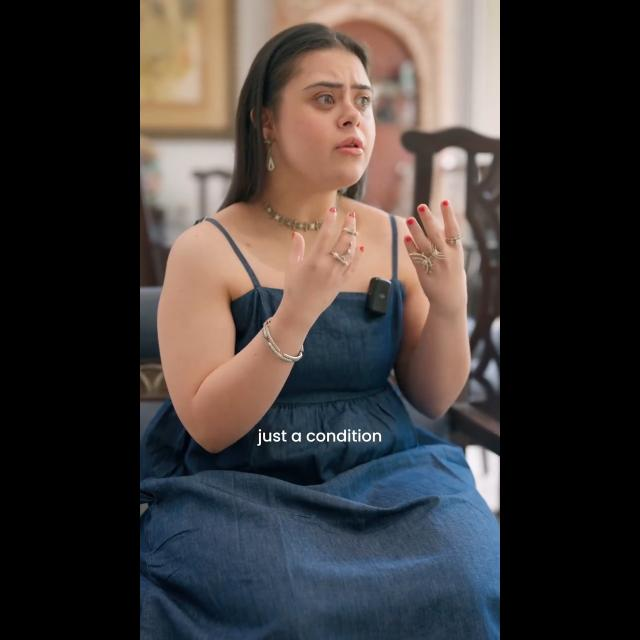dress: (146, 216, 494, 640)
ring: (408, 246, 438, 274), (332, 230, 354, 266), (444, 234, 460, 244)
